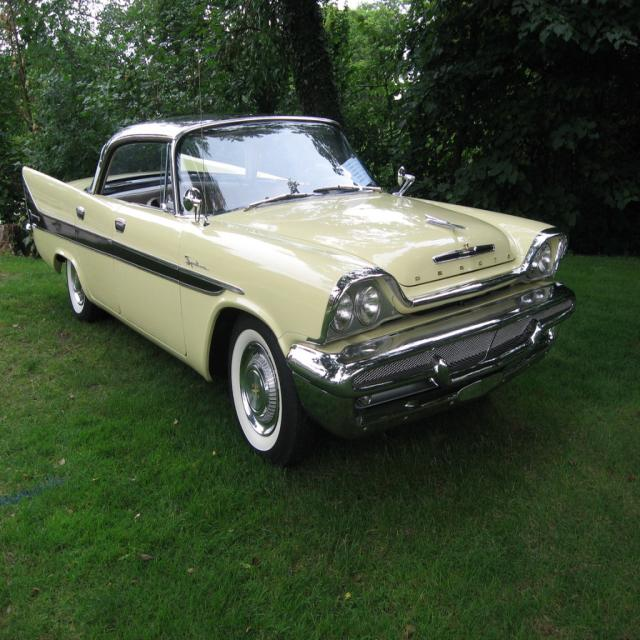car: (24, 66, 574, 468)
